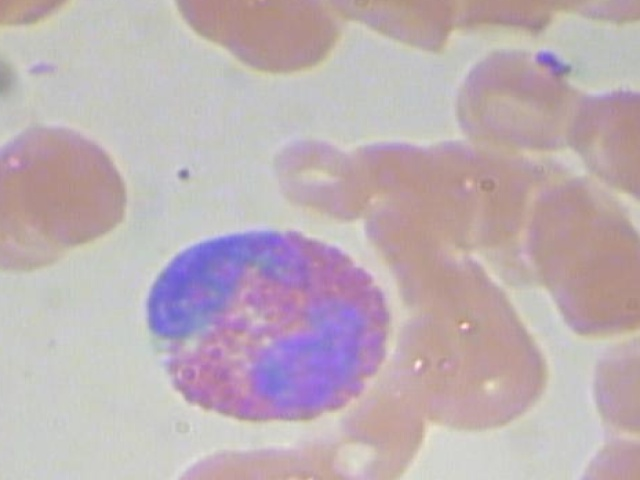Platelets: (532, 44, 580, 78)
RBC: (386, 307, 558, 435), (0, 123, 137, 247), (221, 0, 343, 84), (272, 131, 366, 221), (575, 331, 640, 436), (165, 443, 287, 480), (567, 432, 640, 480), (607, 104, 640, 209)
WBC: (123, 214, 406, 435)
